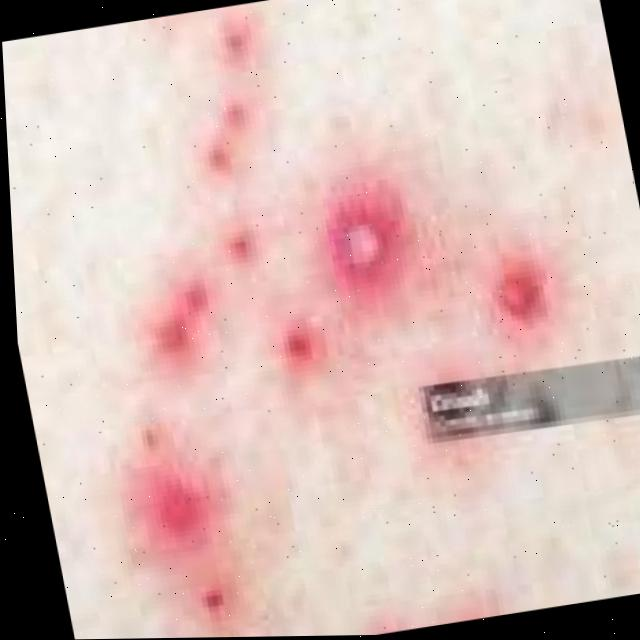Shingles: (95, 0, 548, 383), (148, 468, 205, 533)
